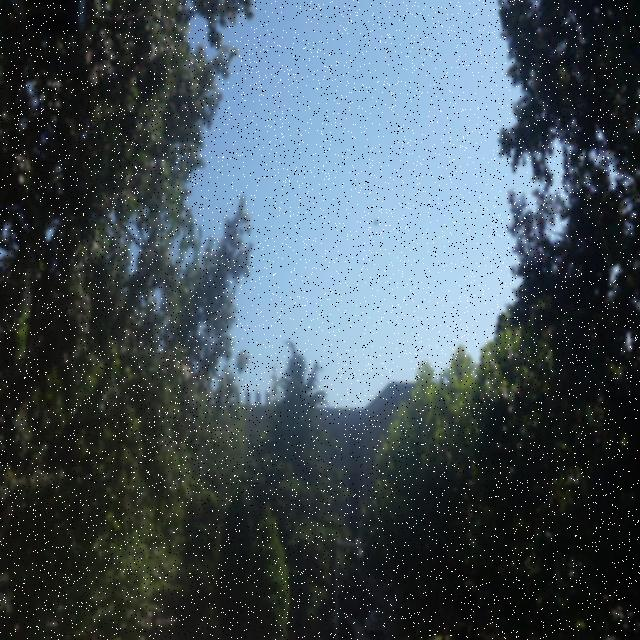UAV: (372, 217, 381, 227)
